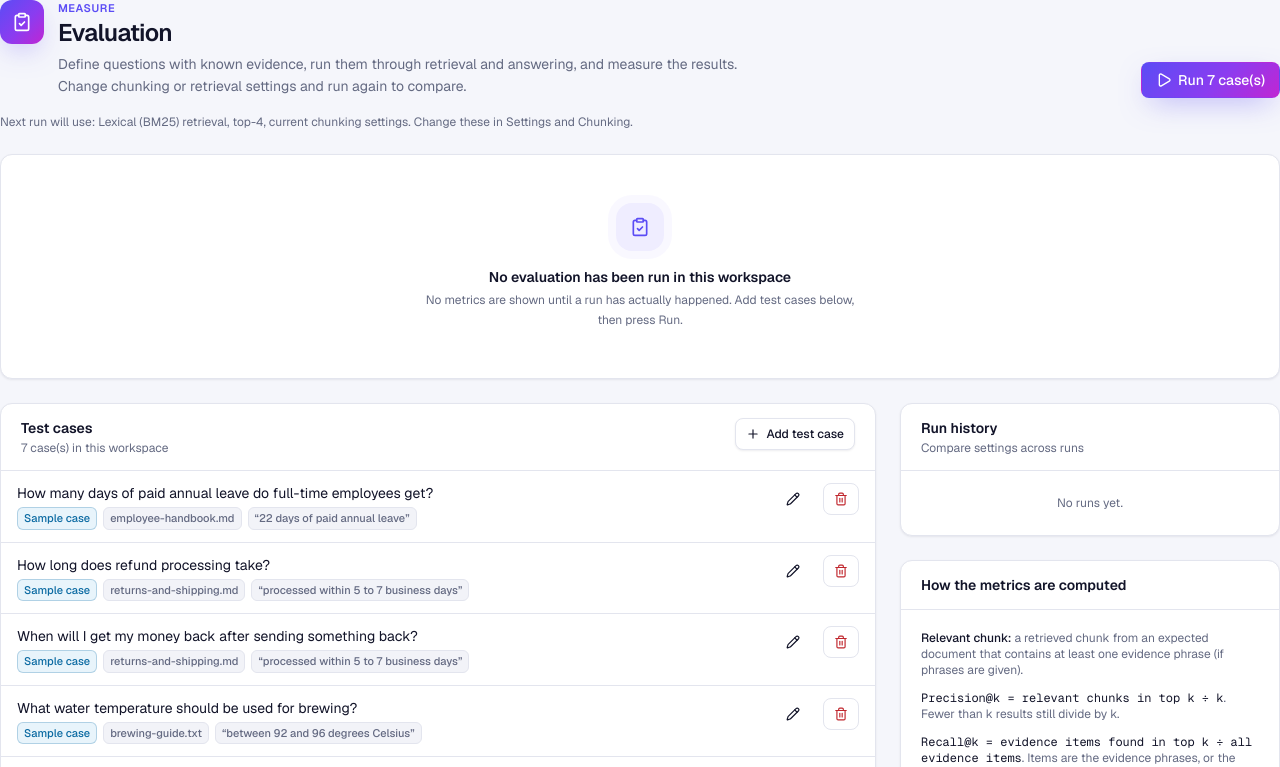
Scenario: EvaluationView › shows an honest empty state, then real metrics after a run
This screenshot has width=1280, height=767.
Check: the heading "Evaluation" is shown, box x1=58 y1=16 x2=172 y2=48
Check: the text "No evaluation has been run in this workspace" is shown, box x1=489 y1=267 x2=791 y2=287
Click the button "Run 7 case(s)" at (1211, 80), box x1=1141 y1=62 x2=1279 y2=98
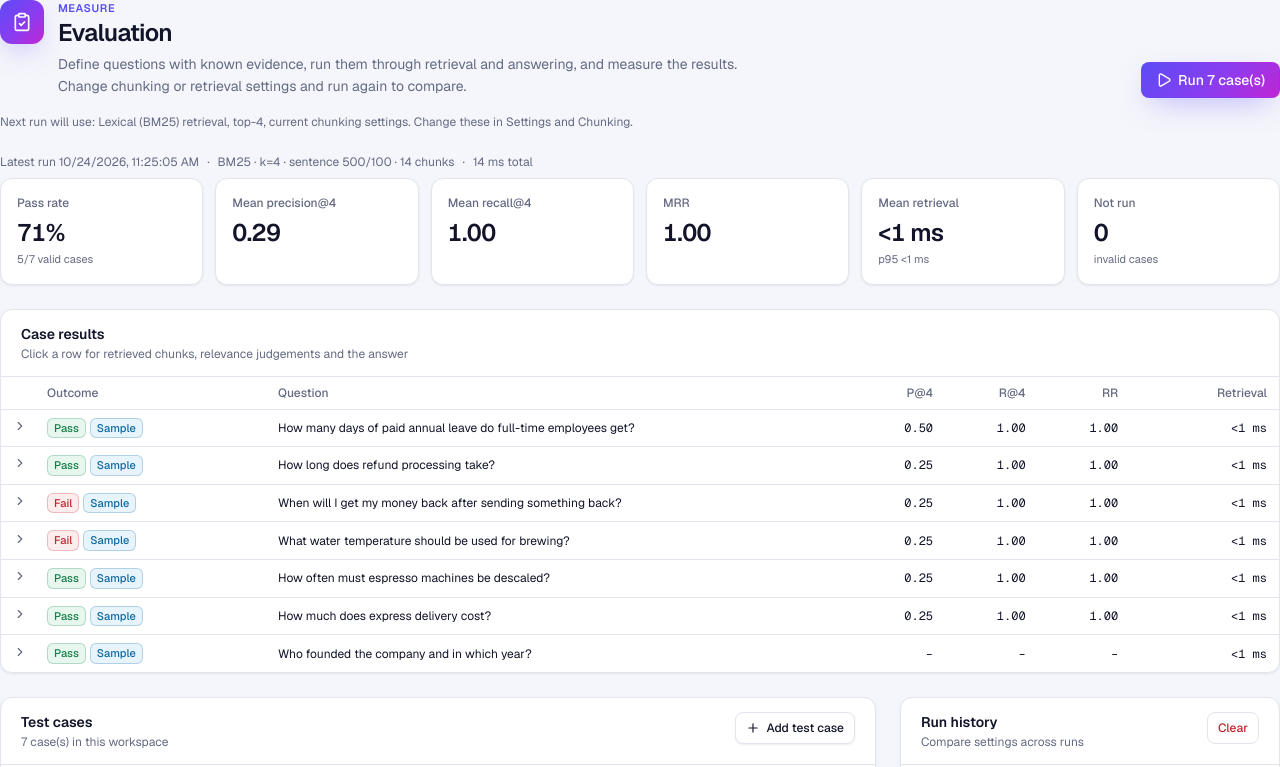
Check: the heading "Case results" is shown, box x1=21 y1=324 x2=104 y2=342
